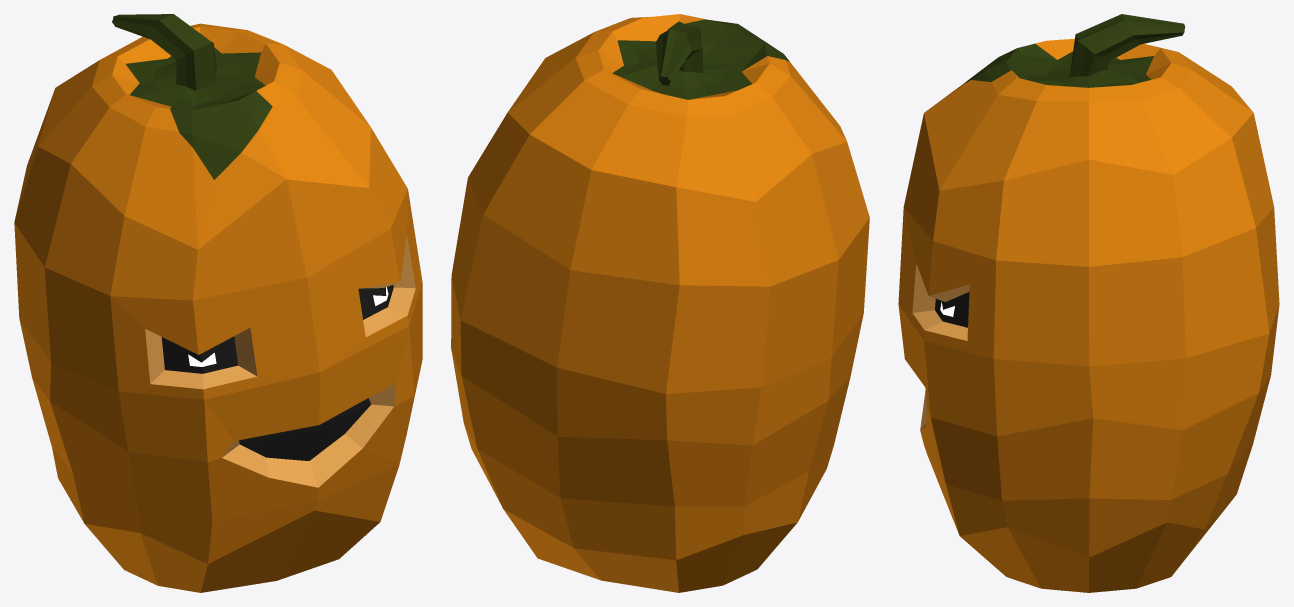
The model's file is PumpkinV4.glb.
3 renders of one model, left to right at view 1: azimuth 30°, elevation 25°; view 2: azimuth 150°, elevation 25°; view 3: azimuth 270°, elevation 25°, orthographic. The views are drawn at different scales.
Parts seen in each view (by area): view 1: PumpkinV4; view 2: PumpkinV4; view 3: PumpkinV4.
Boxes of the visible parts, x1=… form: PumpkinV4: x1=14, y1=14, x2=422, y2=592; PumpkinV4: x1=451, y1=14, x2=869, y2=592; PumpkinV4: x1=898, y1=14, x2=1279, y2=592.
Size of the model in its own units: 0.1699 by 0.248 by 0.1658.
Materials: 2 (2 with a texture image).
